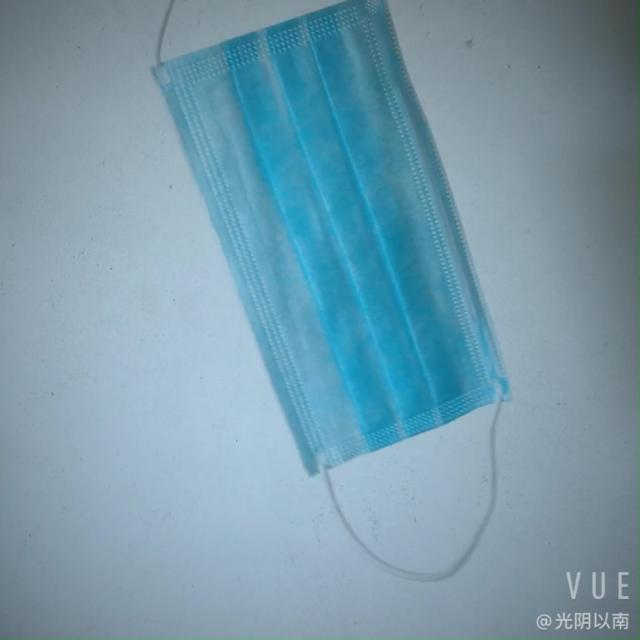face mask: (154, 0, 503, 508)
